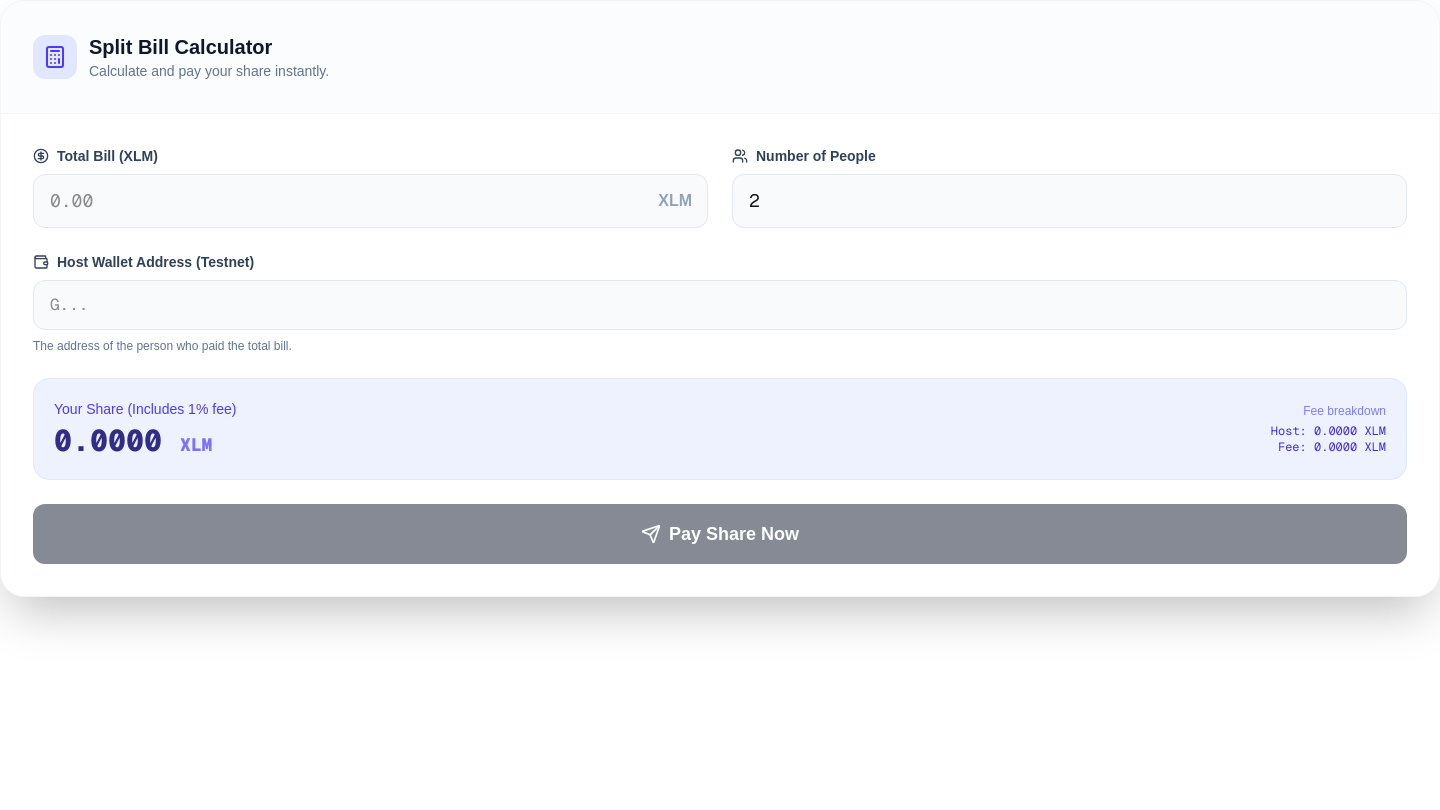
Scenario: SplitBillForm Component › handles submission and success flow
Type "G_TEST_HOST" into the field with placeholder "G..." at (720, 305), box [33, 280, 1407, 330]
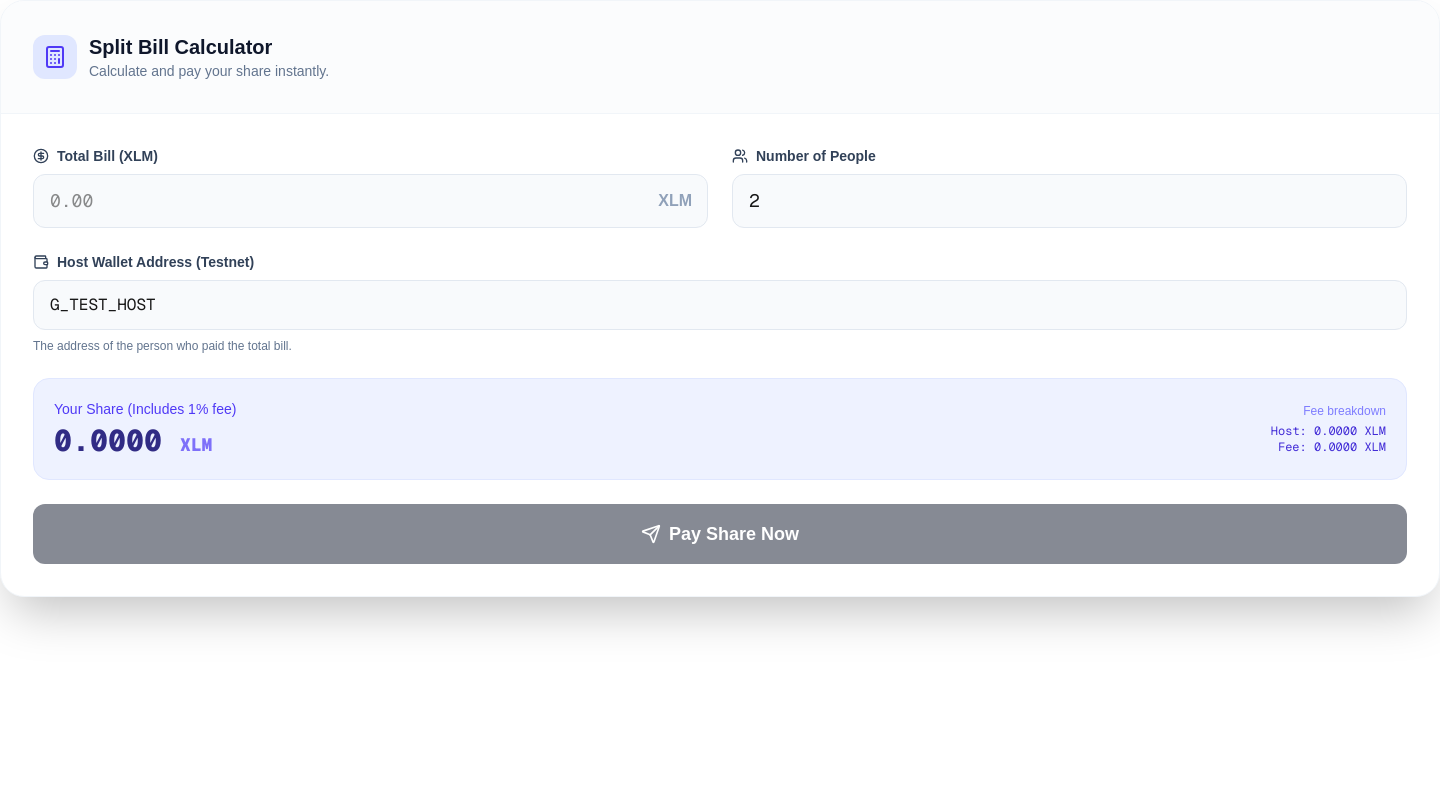
Type "10" into the number field with placeholder "0.00" at (370, 201), box [33, 174, 708, 228]
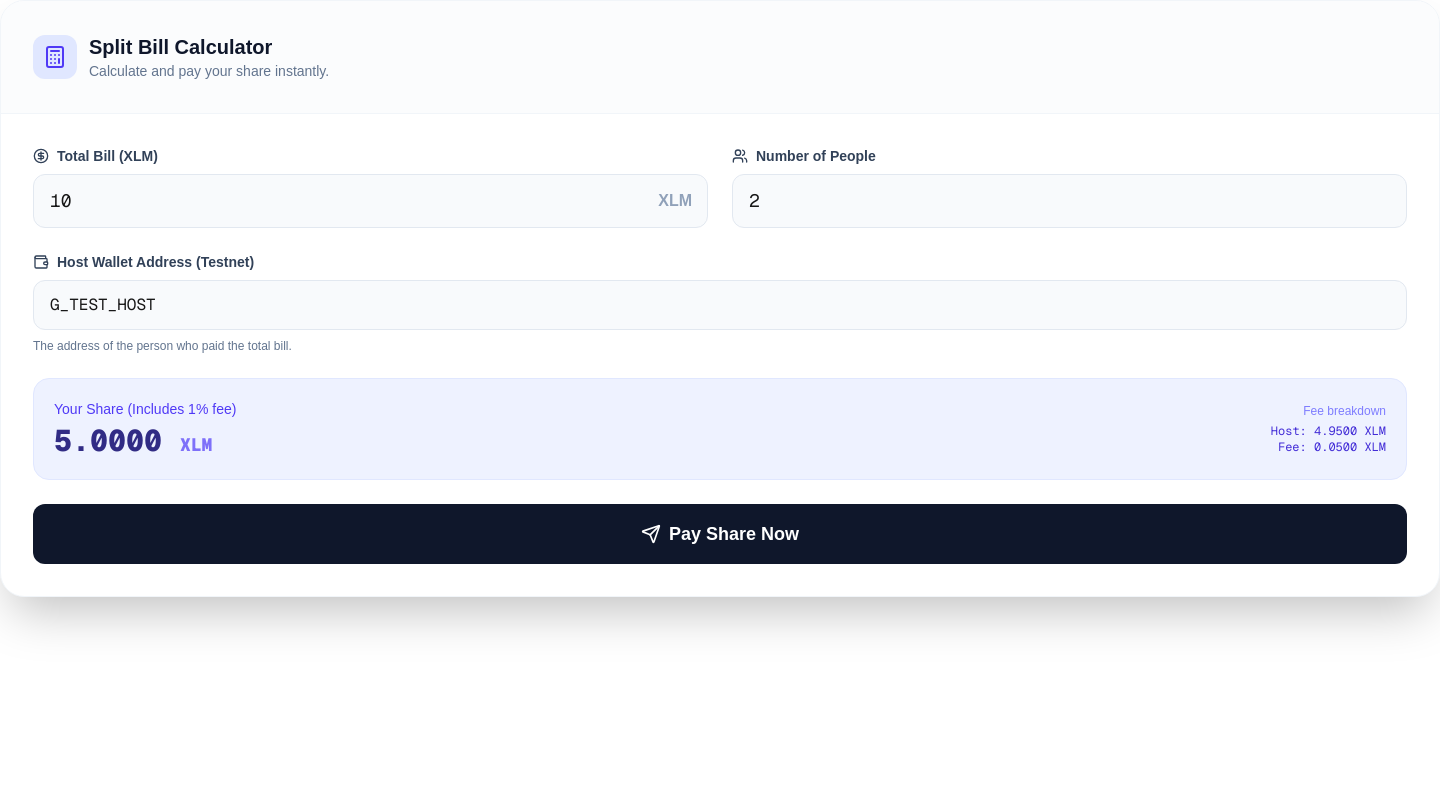
Click the button "Pay Share Now" at (720, 534), box [33, 504, 1407, 564]
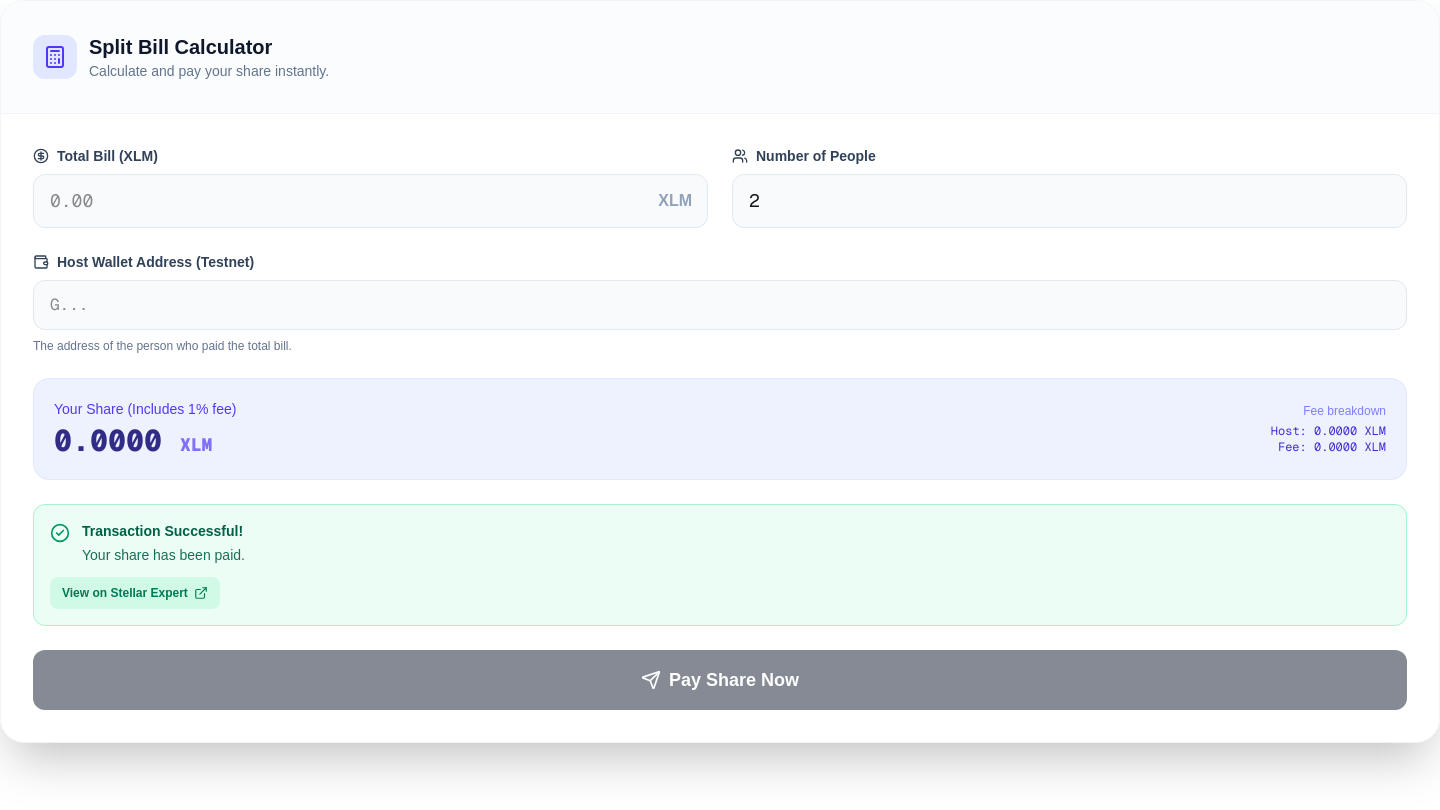
Check: the text "Transaction Successful!" is shown, box [82, 521, 245, 541]
